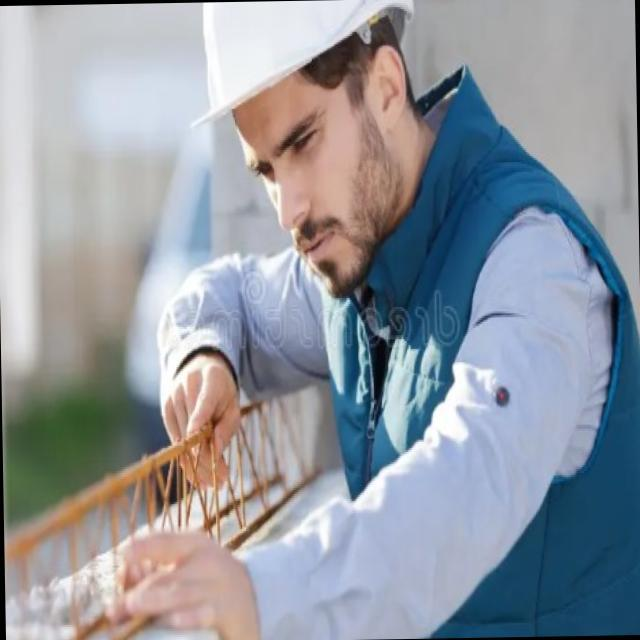not-gloved: (122, 512, 248, 640), (153, 348, 243, 493)
